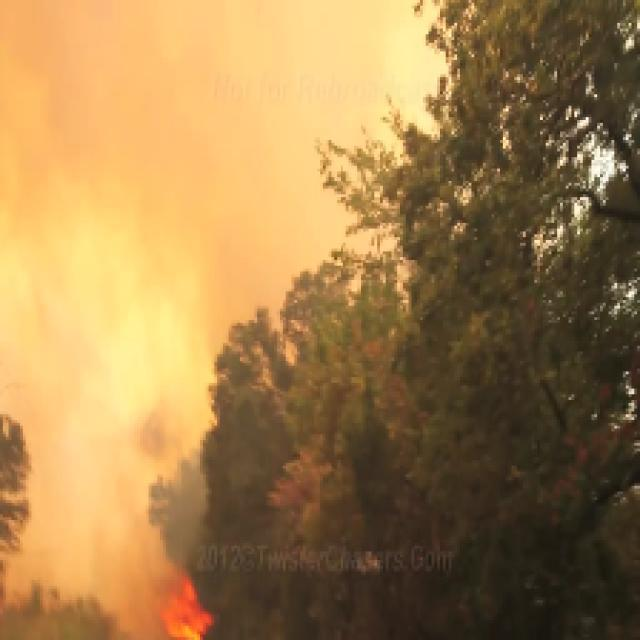Fire: (134, 554, 252, 640)
Smoke: (6, 0, 554, 540)
